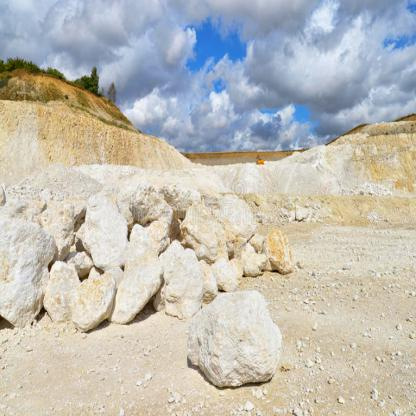Sedimentary_Limestone: (188, 286, 284, 400), (0, 212, 60, 335), (42, 258, 116, 335), (77, 189, 132, 277), (183, 198, 229, 278)
